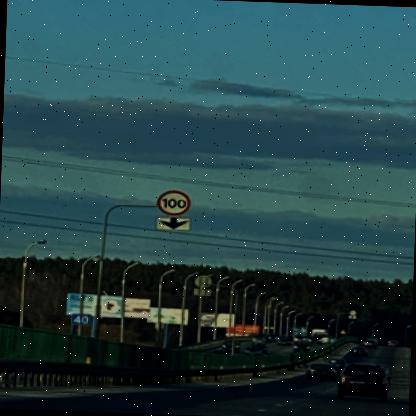speedlimit: (156, 188, 190, 214)
